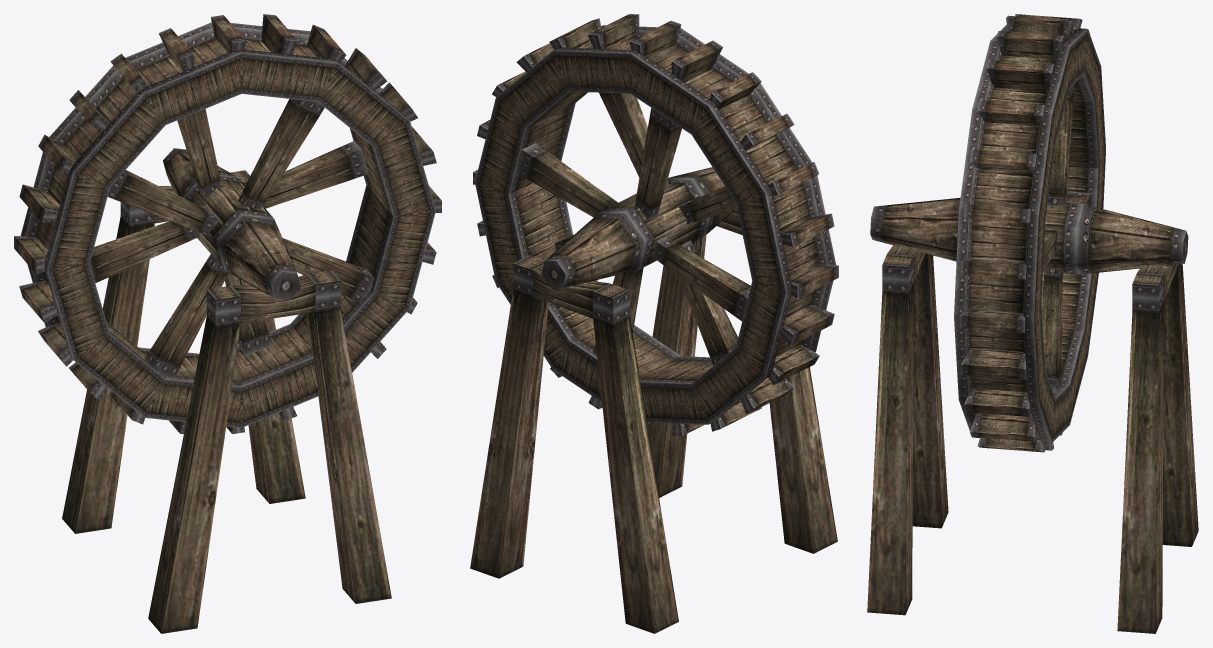
Rendered from shuiche.FBX.
3 views of the same model, side by side, from view 1: azimuth 30°, elevation 25°; view 2: azimuth 150°, elevation 25°; view 3: azimuth 270°, elevation 25° (orthographic). The views are drawn at different scales.
Parts seen in each view (by area): view 1: box145; view 2: box145; view 3: box145.
Part boxes in pixels (bbox=[...]): box145: bbox=[14, 14, 441, 633]; box145: bbox=[470, 14, 838, 633]; box145: bbox=[867, 14, 1198, 633].
Size of the model in its own units: 9.84 by 13.21 by 7.41.
